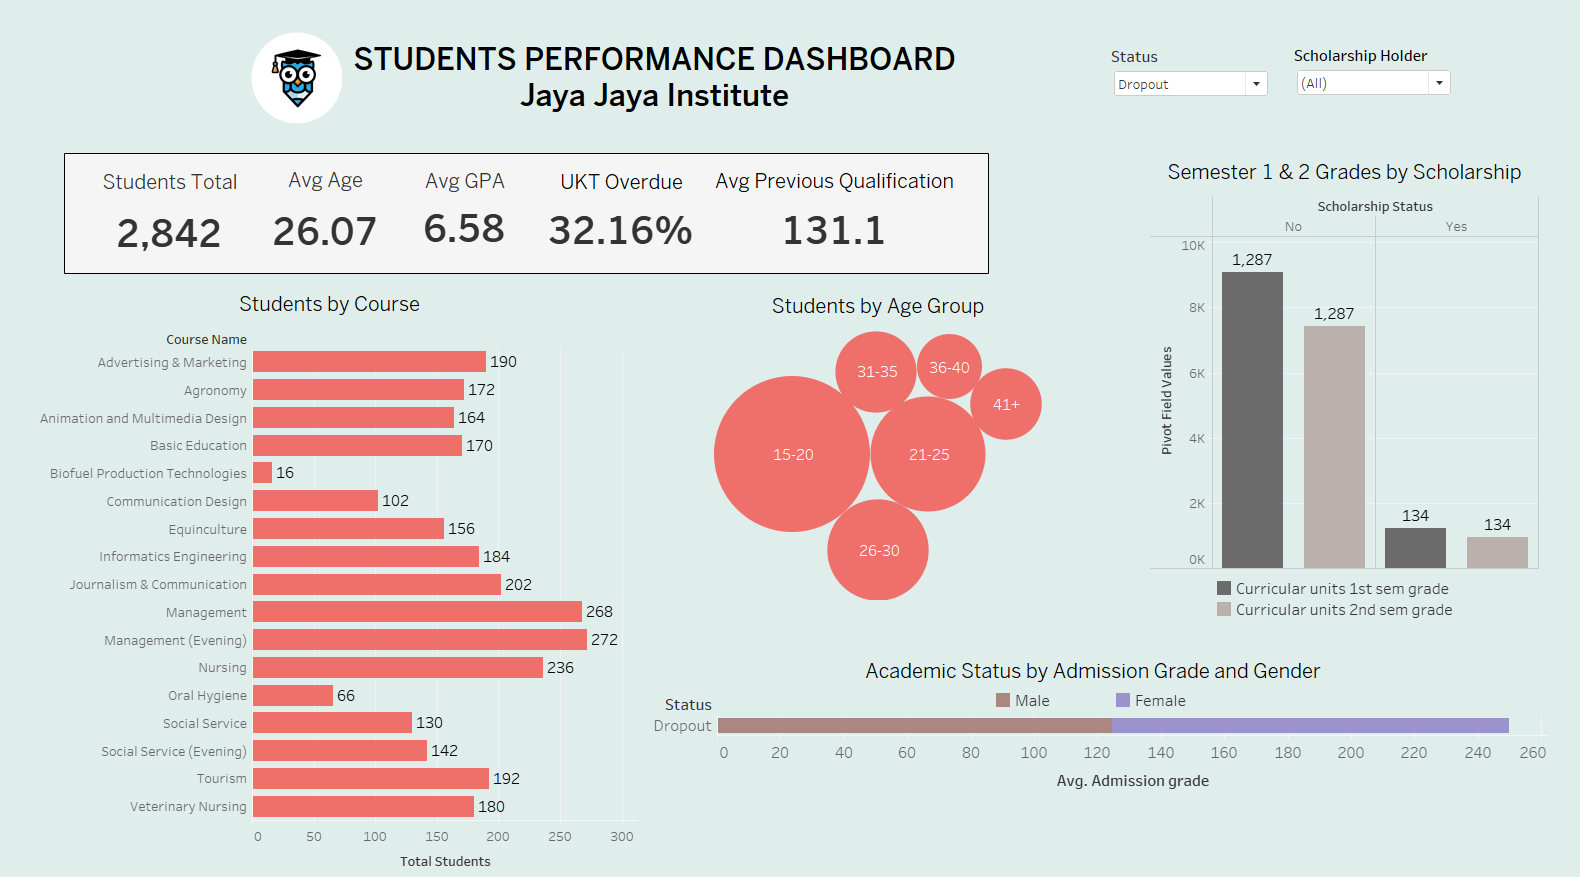

The page's visual inventory and layout, read from the dashboard file:
{"tool":"tableau","page":{"name":"Dashboard 1","canvas":[1000,1000],"units":"permille","ordinal":0},"visuals":[{"type":"text","box":[176.2,36.2,476.9,122.2]},{"type":"image","param":"Image/logo.png","box":[162.5,37.4,56.9,118.5]},{"type":"filter","title":"rt2 umur","param":"[federated.1xda29x10vf37a1f90g6l19490pz].[none:Calculation_1291125736048799749:n","box":[814.4,61.1,100,71.1]},{"type":"filter","title":"avg gpa","param":"[federated.1xda29x10vf37a1f90g6l19490pz].[none:Status:nk]","box":[700,62.3,100,71.1]},{"type":"worksheet","title":"smt 1&2","mark":"Automatic","rows":["Pivot Field Values"],"cols":["Calculation_1291125736048799749","Pivot Field Names"],"box":[724.4,183.3,243.1,460.1]},{"type":"worksheet","title":"rt2 umur","mark":"Text","box":[162.5,192,93.1,107.2]},{"type":"worksheet","title":"avg gpa","mark":"Text","box":[246.9,193.3,98.8,103.5]},{"type":"worksheet","title":"ttl siswa","mark":"Text","box":[56.9,194.5,110,101]},{"type":"worksheet","title":"UKT Overdue","mark":"Automatic","box":[339.4,194.5,109.4,107.2]},{"type":"worksheet","title":"avg prev quality","mark":"Automatic","box":[441.9,194.5,170.6,101]},{"type":"worksheet","title":"course","mark":"Automatic","rows":["Calculation_1291125736050245638"],"cols":["Calculation_1291125735984730112"],"box":[18.1,330.4,386.9,655.9]},{"type":"worksheet","title":"age","mark":"Circle","box":[401.9,331.7,305,346.6]},{"type":"legend","title":"smt 1&2","param":"[federated.1xda29x10vf37a1f90g6l19490pz].[none:Pivot Field Names:nk]","box":[764.4,653.4,166.2,56.1]},{"type":"worksheet","title":"admission grade","mark":"Automatic","rows":["Status"],"cols":["Admission_grade"],"box":[403.8,738.1,570,238.2]},{"type":"legend","title":"admission grade","param":"[federated.1xda29x10vf37a1f90g6l19490pz].[none:Calculation_1291125736051490823:n","box":[626.2,778.1,168.8,31.2]}]}

Visuals, with their boxes on the dashboard's canvas, which has no fixed pixel size, in thousandths of its width and height (x1, y1, x2, y2). These are canvas units, not pixel positions in the 1580x877 screenshot, which may show the page scaled, cropped or inside an application window:
text: box=[176, 36, 653, 158]
image: box=[162, 37, 219, 156]
"rt2 umur" filter: box=[814, 61, 914, 132]
"avg gpa" filter: box=[700, 62, 800, 133]
"smt 1&2" worksheet: box=[724, 183, 968, 643]
"rt2 umur" worksheet (Text marks): box=[162, 192, 256, 299]
"avg gpa" worksheet (Text marks): box=[247, 193, 346, 297]
"ttl siswa" worksheet (Text marks): box=[57, 194, 167, 296]
"UKT Overdue" worksheet: box=[339, 194, 449, 302]
"avg prev quality" worksheet: box=[442, 194, 612, 296]
"course" worksheet: box=[18, 330, 405, 986]
"age" worksheet (Circle marks): box=[402, 332, 707, 678]
"smt 1&2" legend: box=[764, 653, 931, 710]
"admission grade" worksheet: box=[404, 738, 974, 976]
"admission grade" legend: box=[626, 778, 795, 809]
